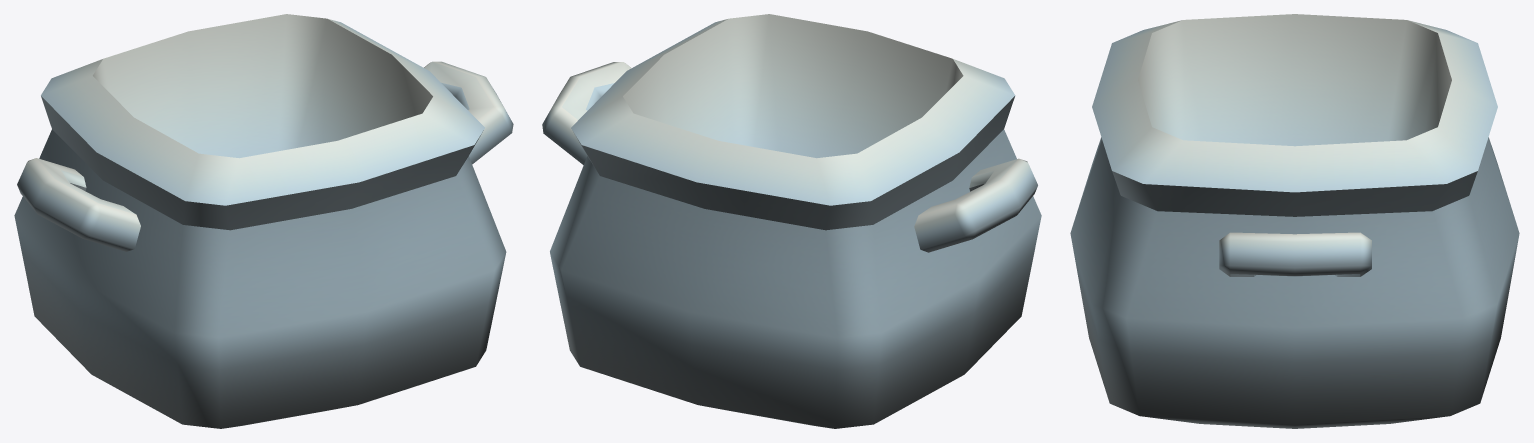
Rendered from pot_soup.fbx.
3 views of the same model, side by side, from view 1: azimuth 30°, elevation 25°; view 2: azimuth 150°, elevation 25°; view 3: azimuth 270°, elevation 25° (orthographic). The views are drawn at different scales.
Visible parts, largest first — view 1: pot_soup; view 2: pot_soup; view 3: pot_soup.
Boxes of the visible parts, <box> form: pot_soup: <box>14,14,513,428</box>; pot_soup: <box>542,14,1041,428</box>; pot_soup: <box>1070,14,1519,428</box>.
Size of the model in its own units: 67.57 by 38.88 by 54.14.
